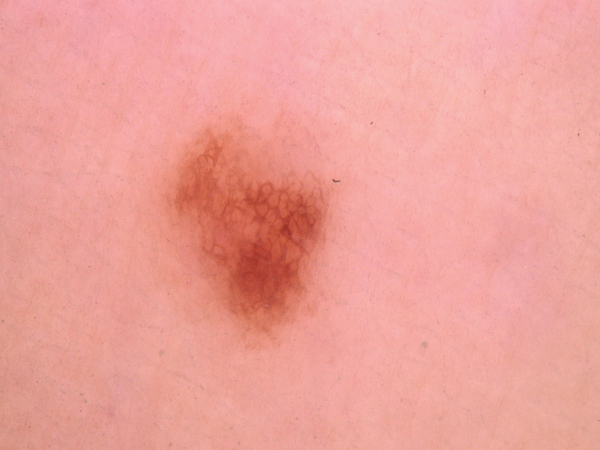Detected Lesion: (164, 113, 343, 350)
